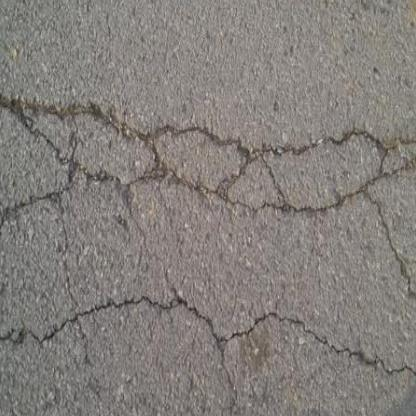Cracks: (0, 271, 255, 360), (214, 304, 416, 402), (0, 84, 179, 189), (231, 124, 413, 216), (40, 179, 107, 381), (134, 107, 274, 202), (347, 172, 416, 313), (184, 313, 269, 416), (0, 179, 80, 277), (367, 108, 416, 181)
